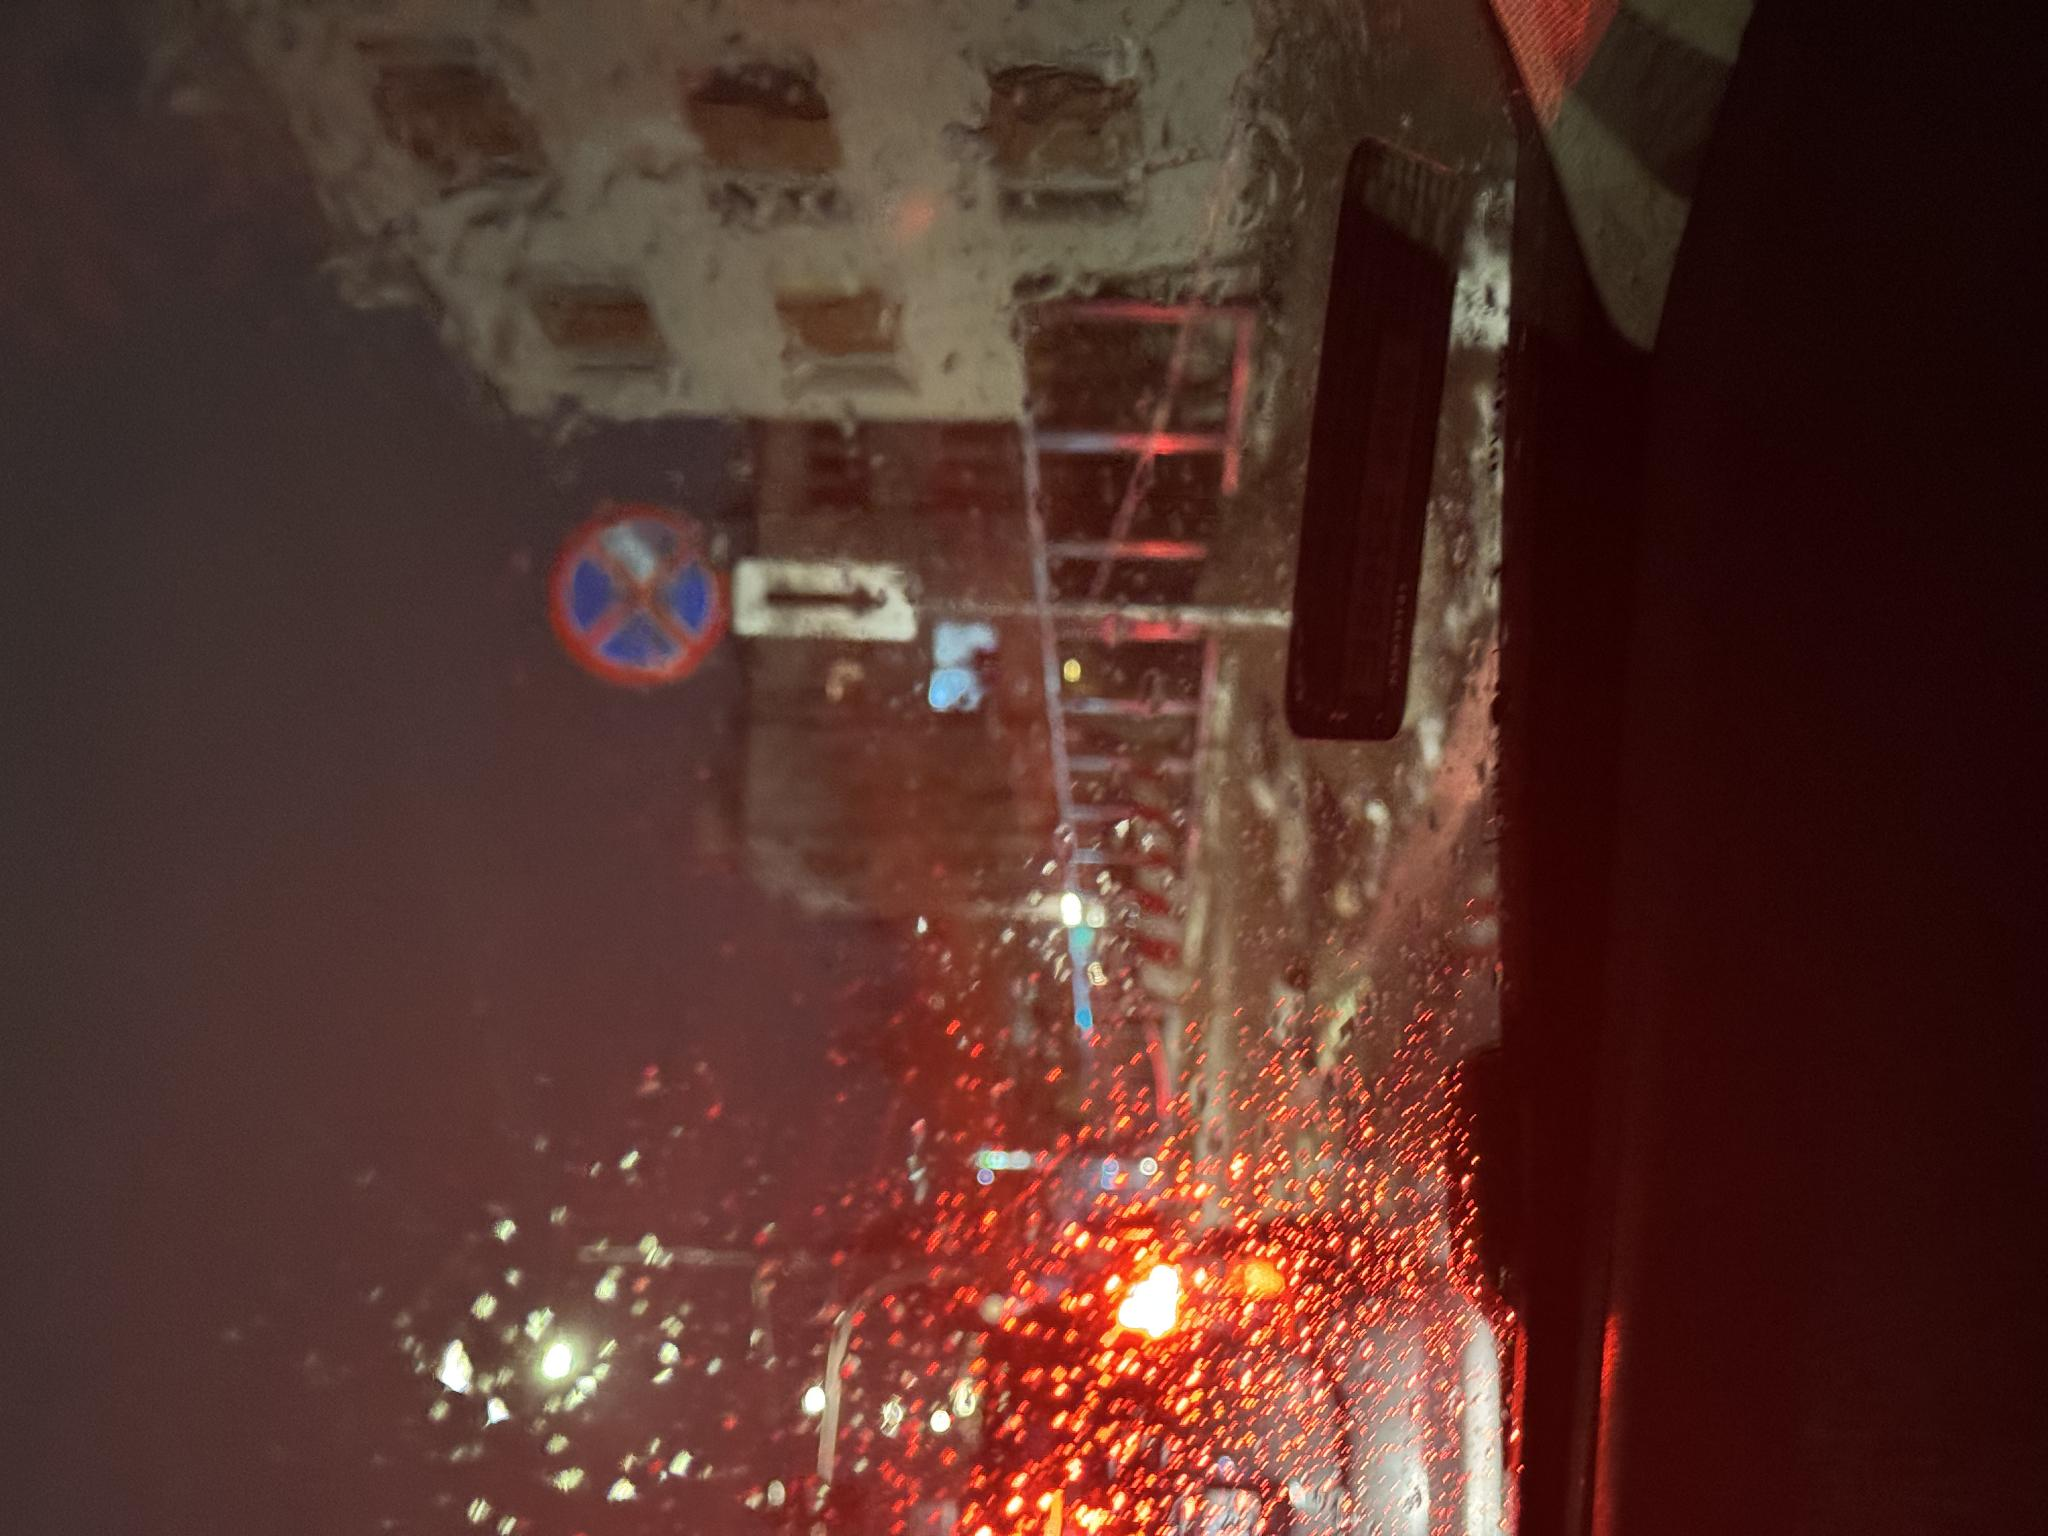other: (892, 736, 979, 920)
prohibitory: (847, 544, 1040, 736)
